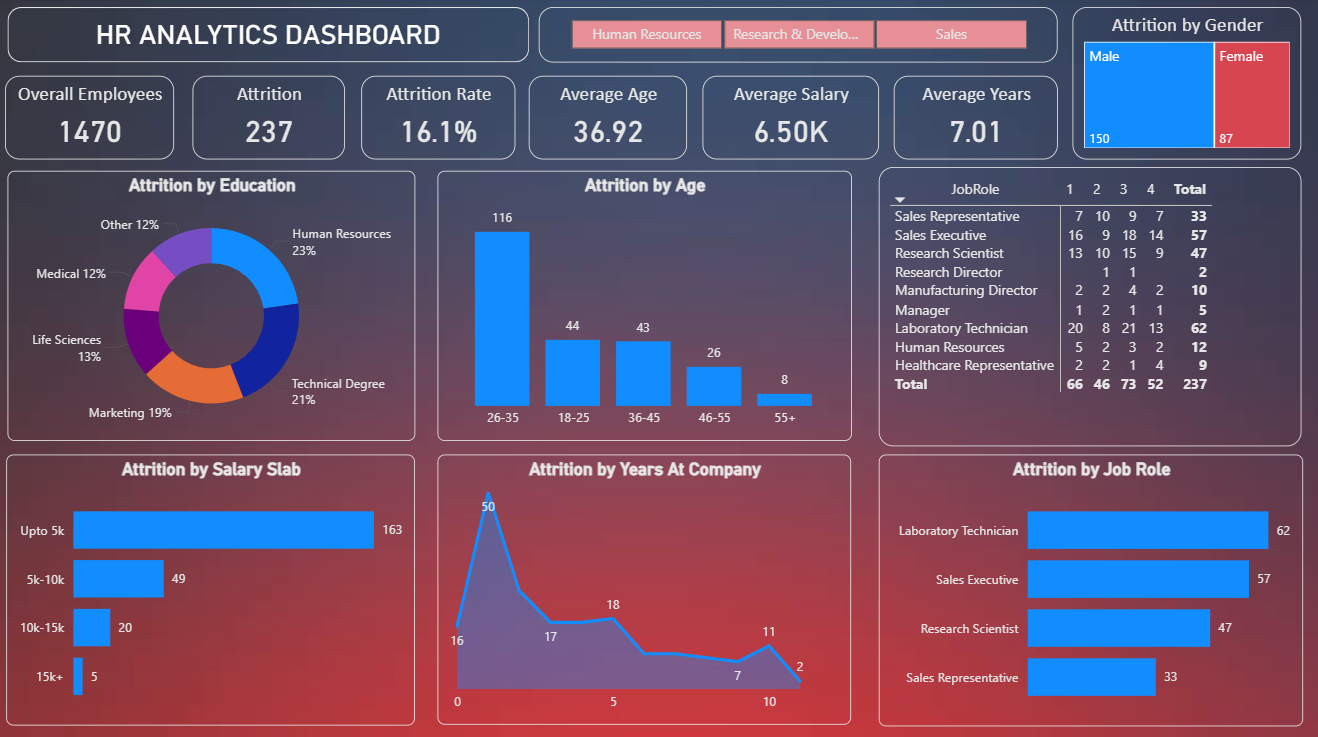

The page's visual inventory and layout, read from the dashboard file:
{"tool":"powerbi","page":{"name":"Page 1","canvas":[1280,720],"ordinal":0},"visuals":[{"type":"card","title":"Overall Employees","fields":{"Values":["CountNonNull(HR_Analytics.EmpID)"]},"box":[10.1,76.5,163,80.8],"z":0},{"type":"card","title":"Attrition","fields":{"Values":["CountNonNull(HR_Analytics.Attritioncount)"]},"box":[190.4,76.5,147.2,80.8],"z":1000},{"type":"card","title":"Attrition Rate","fields":{"Values":["HR_Analytics.Attrition_rate"]},"box":[353.5,76.5,148.6,80.8],"z":2000},{"type":"card","title":"Average Age","fields":{"Values":["Avg(HR_Analytics.Age)"]},"box":[515.1,76.5,152.9,80.8],"z":3000},{"type":"card","title":"Average Salary","fields":{"Values":["Avg(HR_Analytics.MonthlyIncome)"]},"box":[682.4,76.5,170.2,80.8],"z":4000},{"type":"card","title":"Average Years","fields":{"Values":["Avg(HR_Analytics.YearsAtCompany)"]},"box":[867.1,76.5,158.7,80.8],"z":5000},{"type":"donutChart","title":"Attrition by Education","fields":{"Category":["HR_Analytics.EducationField"],"Y":["HR_Analytics.Attrition_rate"]},"box":[11.5,167.4,393.9,261.1],"z":6000},{"type":"columnChart","title":"Attrition by Age","fields":{"Category":["HR_Analytics.AgeGroup"],"Y":["Sum(HR_Analytics.Attritioncount)"]},"box":[427.1,167.4,399.6,261.1],"z":7000},{"type":"pivotTable","fields":{"Columns":["HR_Analytics.JobSatisfaction"],"Rows":["HR_Analytics.JobRole"],"Values":["Sum(HR_Analytics.Attritioncount)"]},"box":[852.7,164.5,408.3,269.8],"z":8000},{"type":"barChart","title":"Attrition by Salary Slab","fields":{"Category":["HR_Analytics.SalarySlab"],"Y":["Sum(HR_Analytics.Attritioncount)"]},"box":[10.9,441.6,394.5,261.8],"z":9000},{"type":"barChart","title":"Attrition by Job Role","fields":{"Category":["HR_Analytics.JobRole"],"Y":["Sum(HR_Analytics.Attritioncount)"]},"box":[852.7,441.5,409.7,262.6],"z":10000},{"type":"areaChart","title":"Attrition by Years At Company","fields":{"Category":["HR_Analytics.YearsAtCompany"],"Y":["Sum(HR_Analytics.Attritioncount)"]},"box":[427.1,441.6,399.3,260.6],"z":11000},{"type":"treemap","title":" Attrition by Gender","fields":{"Group":["HR_Analytics.Gender"],"Values":["Sum(HR_Analytics.Attritioncount)"]},"box":[1040.2,10.1,220.7,147.2],"z":12000},{"type":"shape","box":[11.5,10.1,503.5,53.4],"z":13000},{"type":"slicer","fields":{"Values":["HR_Analytics.Department"]},"box":[525.2,10.1,500.6,53.4],"z":14000}]}

Visuals, with their boxes in screenshot pixels (x1, y1, x2, y2), scaled from the page's 1280x720 canvas onto the 1318x737 screenshot:
"Overall Employees" card: (x1=10, y1=78, x2=178, y2=161)
"Attrition" card: (x1=196, y1=78, x2=348, y2=161)
"Attrition Rate" card: (x1=364, y1=78, x2=517, y2=161)
"Average Age" card: (x1=530, y1=78, x2=688, y2=161)
"Average Salary" card: (x1=703, y1=78, x2=878, y2=161)
"Average Years" card: (x1=893, y1=78, x2=1056, y2=161)
"Attrition by Education" donutChart: (x1=12, y1=171, x2=417, y2=439)
"Attrition by Age" columnChart: (x1=440, y1=171, x2=851, y2=439)
pivotTable - HR_Analytics.JobSatisfaction x HR_Analytics.JobRole: (x1=878, y1=168, x2=1298, y2=445)
"Attrition by Salary Slab" barChart: (x1=11, y1=452, x2=417, y2=720)
"Attrition by Job Role" barChart: (x1=878, y1=452, x2=1300, y2=721)
"Attrition by Years At Company" areaChart: (x1=440, y1=452, x2=851, y2=719)
" Attrition by Gender" treemap: (x1=1071, y1=10, x2=1298, y2=161)
shape: (x1=12, y1=10, x2=530, y2=65)
slicer - HR_Analytics.Department: (x1=541, y1=10, x2=1056, y2=65)
